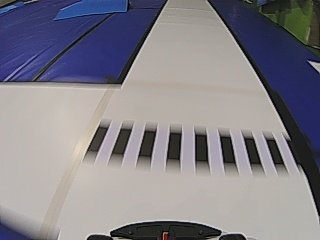CrossWalk: (87, 122, 288, 168)
